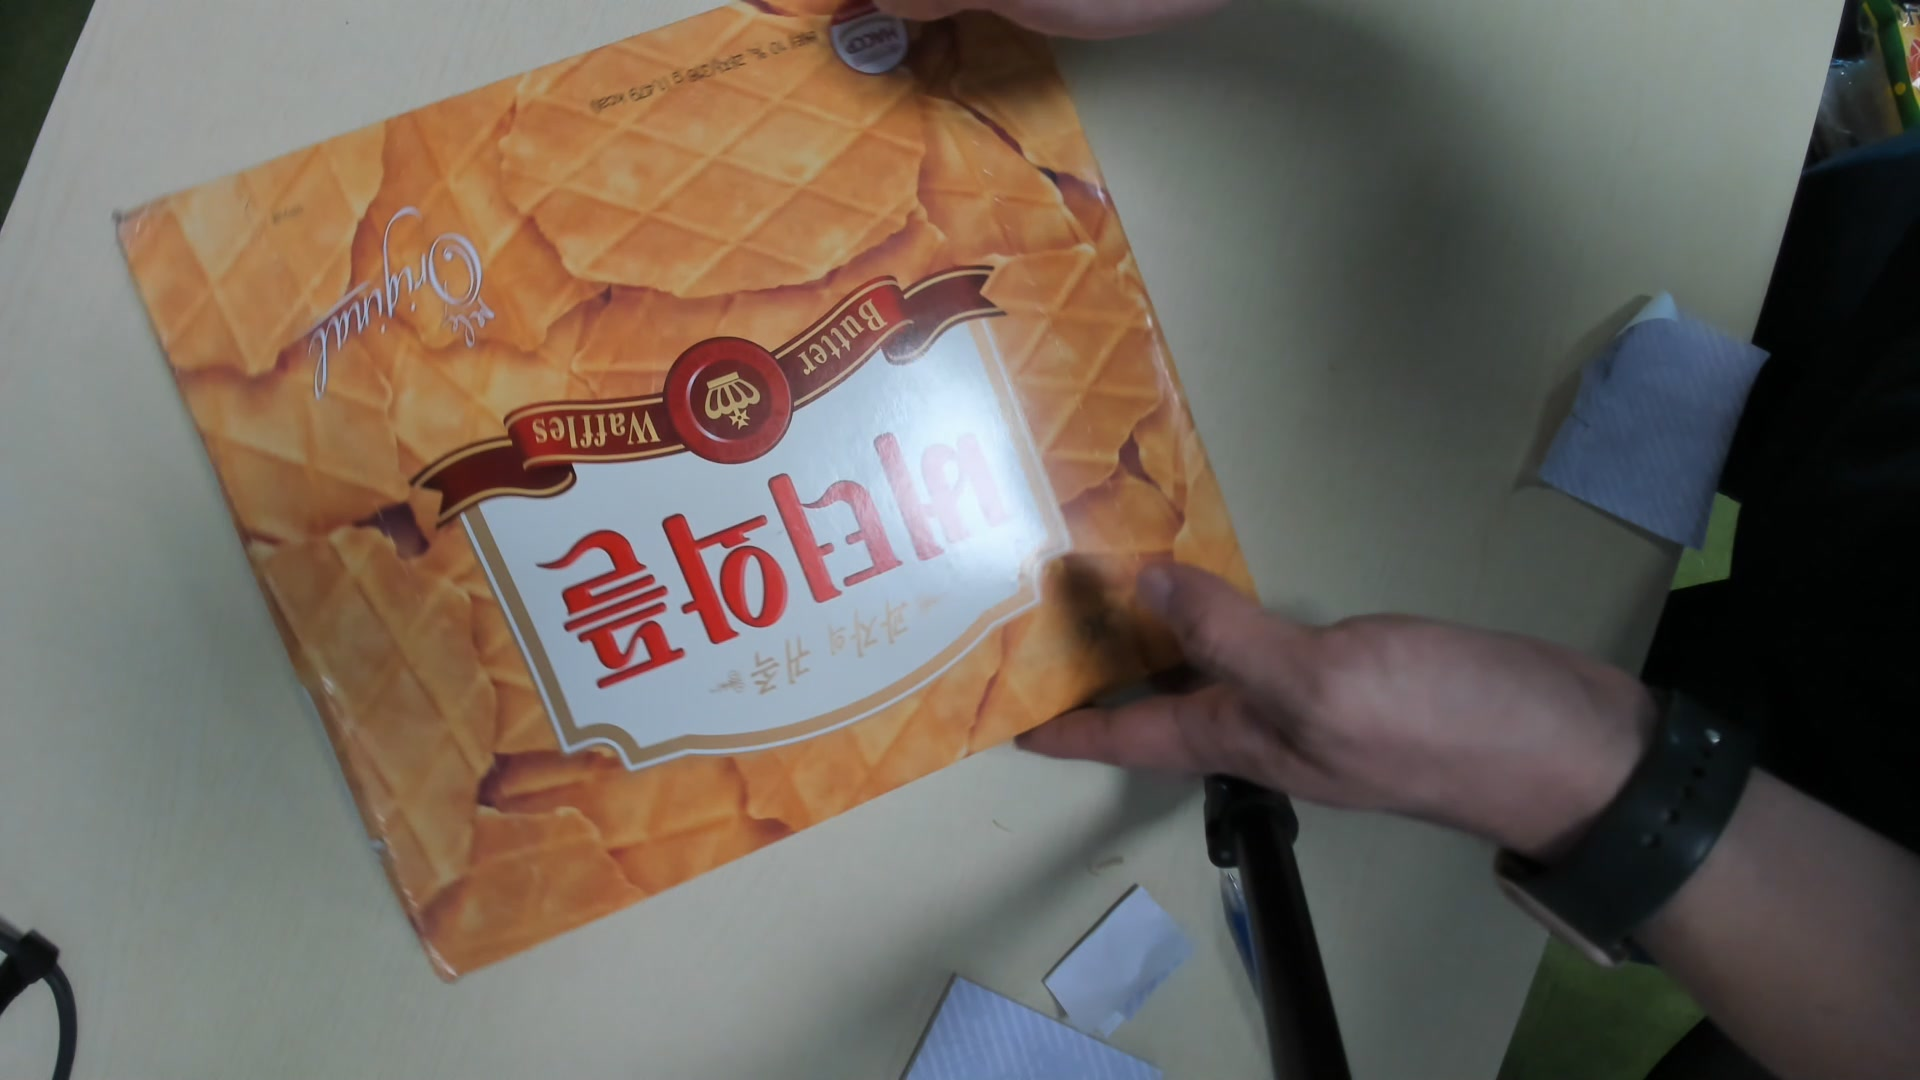BiscuitsCrackersCookies_300-399g_NonHalal_NonHealthy: (121, 1, 1274, 1000)
